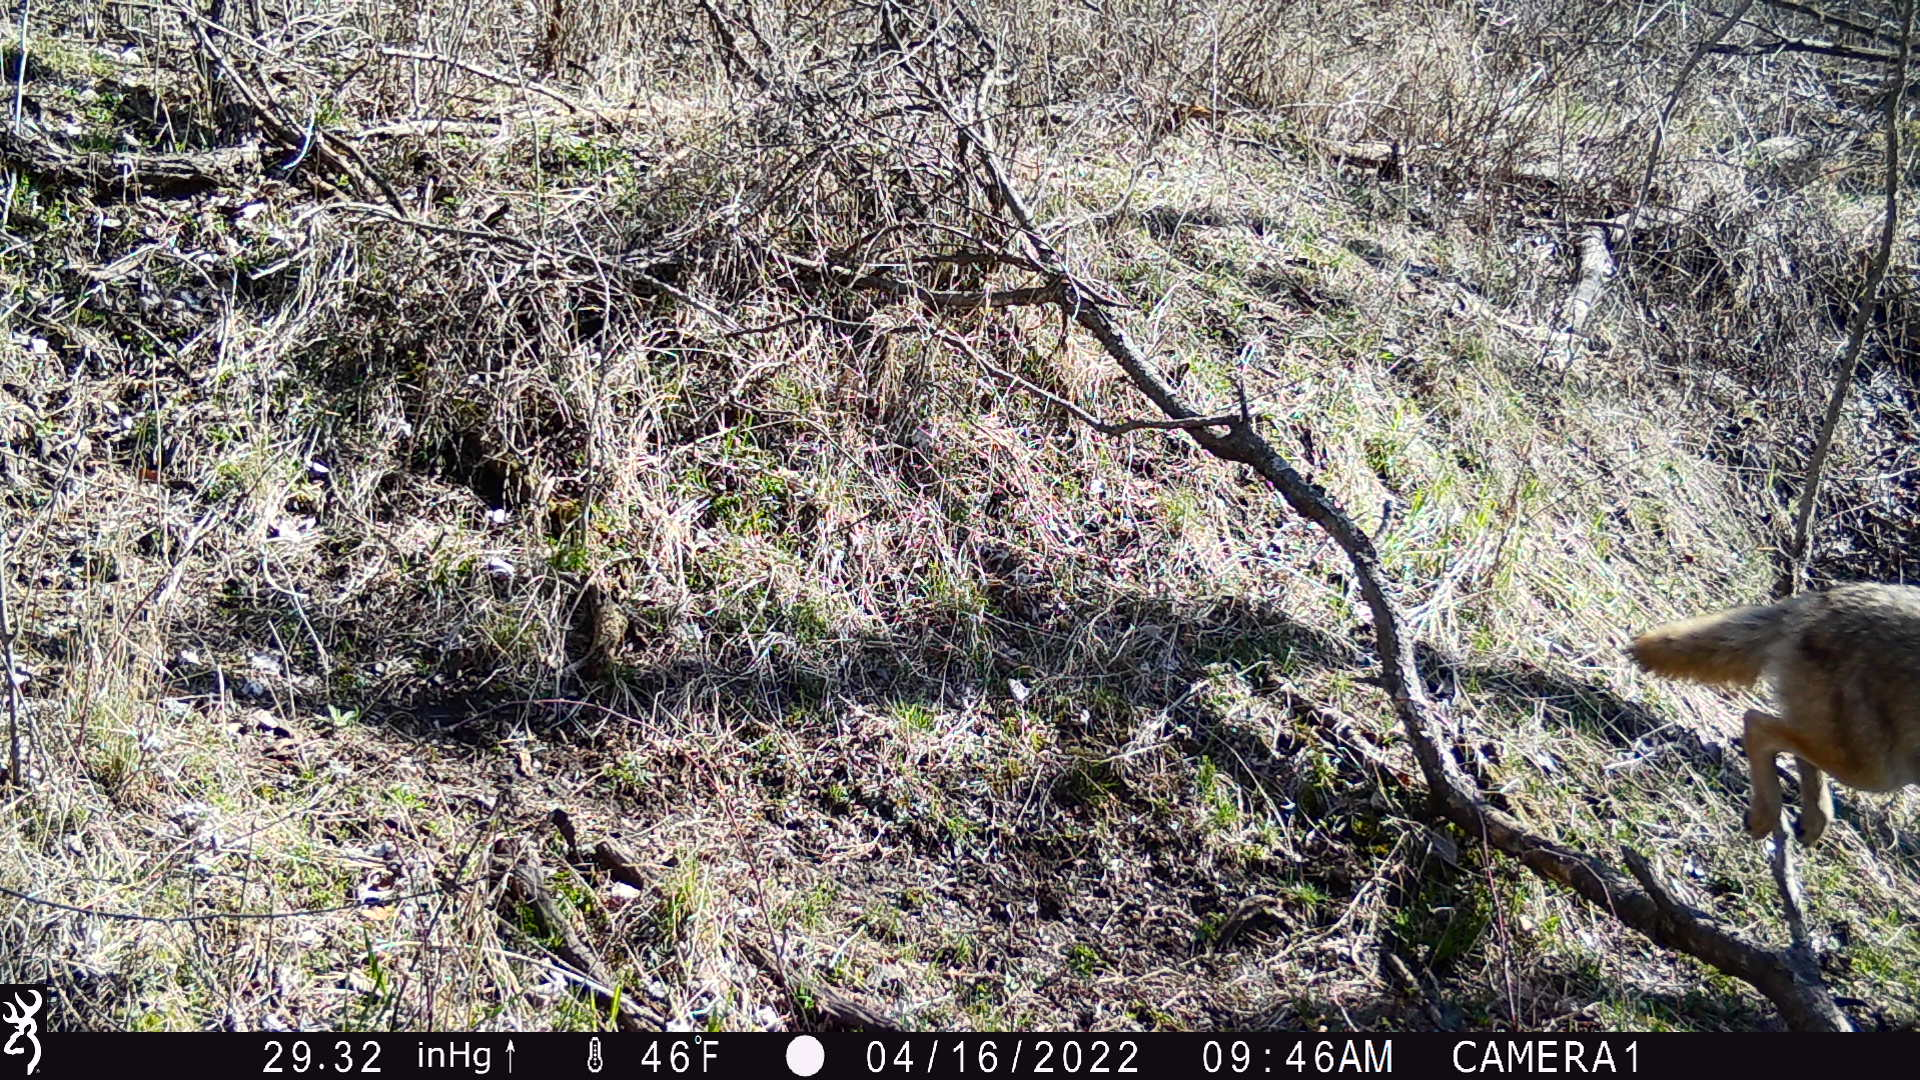Coyote: (1625, 578, 1919, 848)
